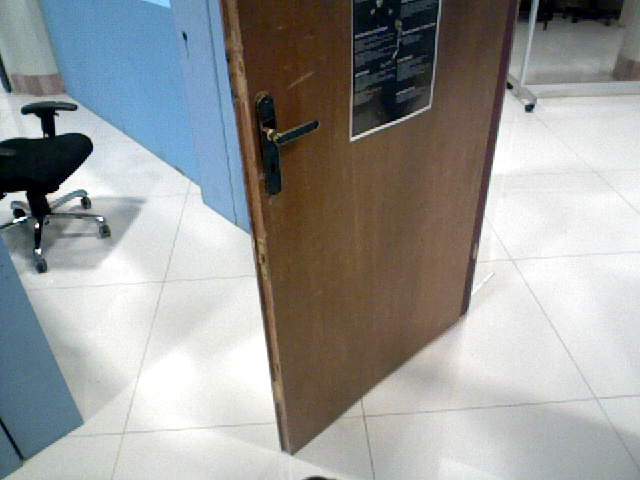door_handle: (249, 85, 318, 198)
